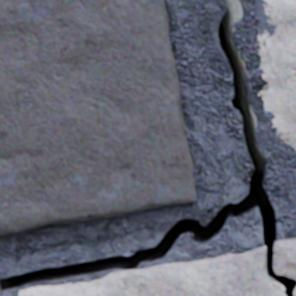brick: (0, 0, 196, 234), (252, 0, 295, 149)
broken_brick: (19, 245, 286, 295), (273, 237, 295, 278), (293, 285, 295, 295)
crack: (0, 0, 295, 295)
